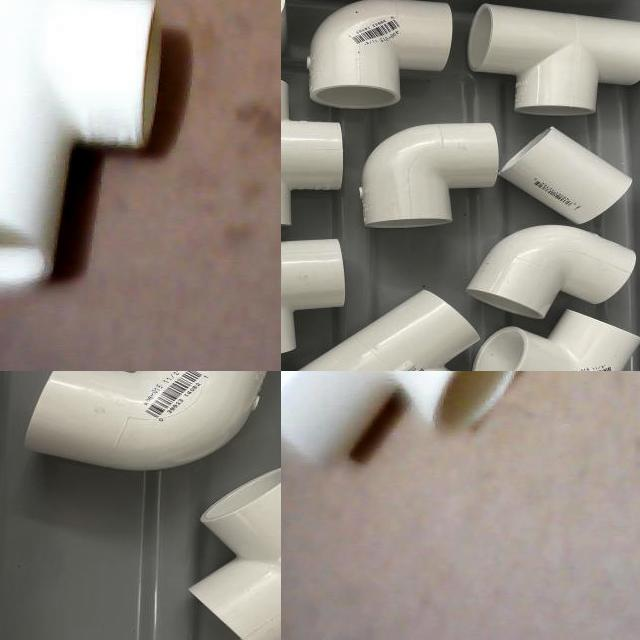L Joint: (23, 371, 270, 473), (466, 225, 639, 321), (309, 0, 455, 113), (188, 468, 281, 640), (360, 123, 501, 233), (477, 316, 640, 371), (281, 239, 347, 356)
T Joint: (471, 6, 640, 116), (298, 287, 480, 371), (281, 78, 345, 228)
